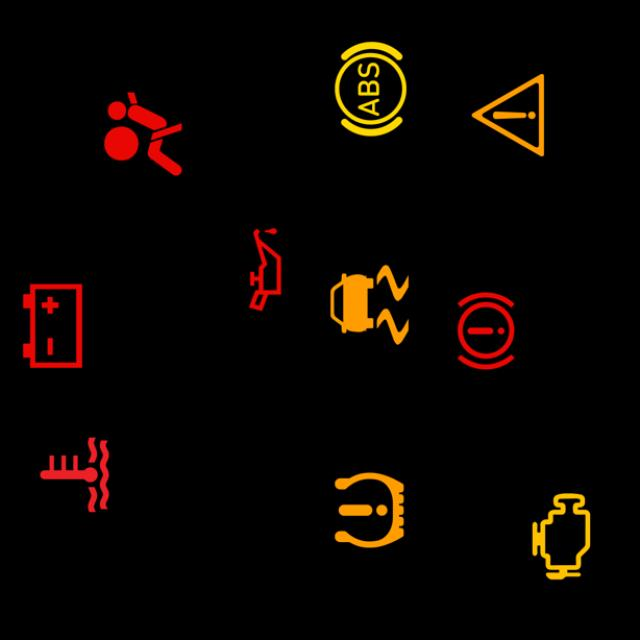Anti Lock Braking System: (319, 38, 422, 140)
Braking System Issue: (435, 280, 538, 382)
Charging System Issue: (1, 274, 104, 377)
Check Engine: (510, 485, 613, 588)
Electronic Stability Problem -ESP-: (318, 254, 421, 356)
Engine Overheating Warning Light: (23, 424, 126, 526)
Low Engine Oil Warning Light: (214, 218, 317, 321)
Low Tire Pressure Warning Light: (318, 458, 421, 562)
Master warning light: (456, 64, 560, 166)
SRS-Airbag: (92, 82, 195, 186)
